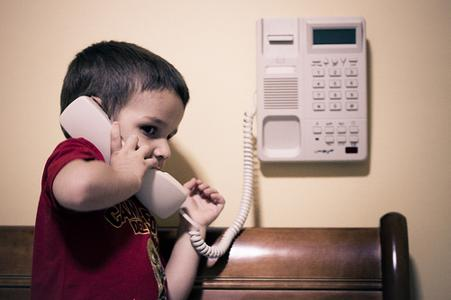person: (33, 39, 223, 299)
